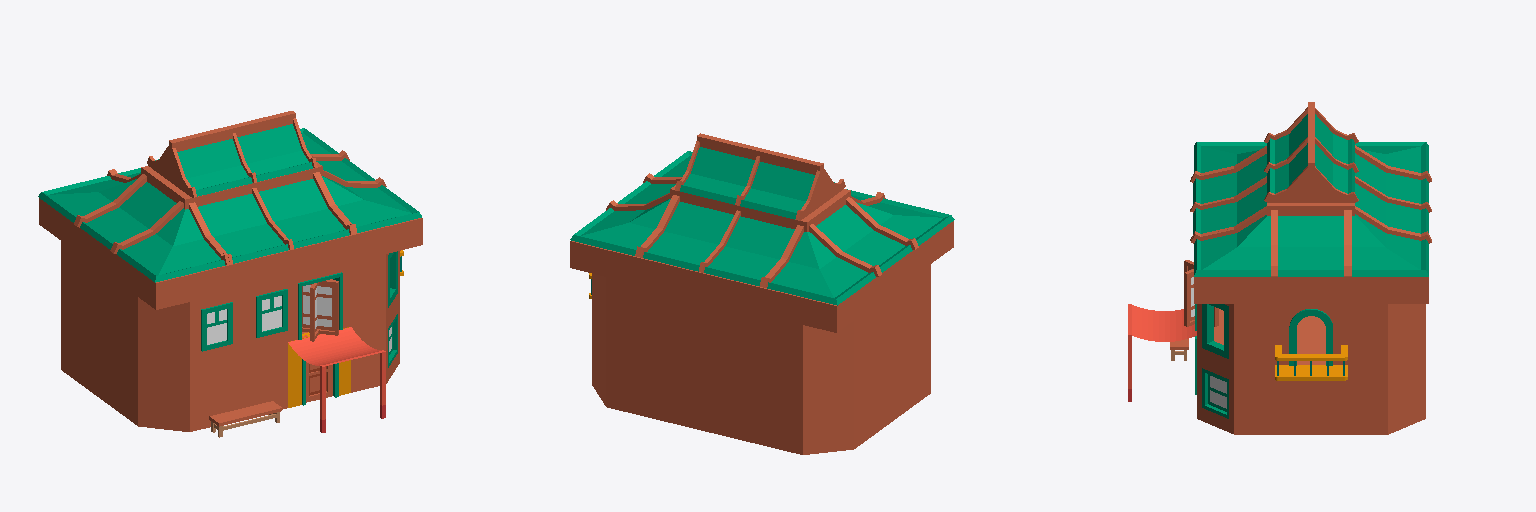
File: Buildng1.obj
3 views of the same model, side by side, from view 1: azimuth 30°, elevation 25°; view 2: azimuth 150°, elevation 25°; view 3: azimuth 270°, elevation 25° (orthographic).
Parts seen in each view (by area): view 1: wall, wall_cornerEdge, roof_eastAsianSide, roof_eastAsianSideCorner, roof_eastAsian, doorway_revolving, wall_cornerEdgeWindowLarge, window_detail_double, wall_cornerEdgeWindow, doorway_doorSolid, cloth_hanging, furniture_bench (+1 smaller); view 2: wall, wall_cornerEdge, roof_eastAsianSide, roof_eastAsianSideCorner, roof_eastAsian; view 3: roof_eastAsianSide, roof_eastAsianSideCorner, wall, wall_cornerEdge, roof_eastAsian, wall_cornerEdgeWindow, wall_cornerEdgeWindowLarge, doorway_round, cloth_hanging, balcony_basic, porch_floorCenter, doorway_revolving.
Boxes of the visible parts, x1=… form: wall: x1=39, y1=198, x2=422, y2=411; wall_cornerEdge: x1=61, y1=241, x2=224, y2=431; roof_eastAsianSide: x1=75, y1=152, x2=380, y2=264; roof_eastAsianSideCorner: x1=38, y1=128, x2=421, y2=282; roof_eastAsian: x1=147, y1=111, x2=317, y2=197; doorway_revolving: x1=288, y1=263, x2=350, y2=341; wall_cornerEdgeWindowLarge: x1=351, y1=251, x2=399, y2=325; window_detail_double: x1=201, y1=289, x2=287, y2=351; wall_cornerEdgeWindow: x1=351, y1=297, x2=399, y2=392; doorway_doorSolid: x1=288, y1=327, x2=350, y2=407; cloth_hanging: x1=288, y1=327, x2=385, y2=366; furniture_bench: x1=209, y1=401, x2=281, y2=437; wall: x1=570, y1=221, x2=953, y2=446; wall_cornerEdge: x1=592, y1=264, x2=930, y2=454; roof_eastAsianSide: x1=612, y1=175, x2=916, y2=286; roof_eastAsianSideCorner: x1=570, y1=151, x2=954, y2=305; roof_eastAsian: x1=675, y1=133, x2=845, y2=220; roof_eastAsianSide: x1=1190, y1=147, x2=1431, y2=276; roof_eastAsianSideCorner: x1=1191, y1=142, x2=1431, y2=276; wall: x1=1194, y1=277, x2=1428, y2=434; wall_cornerEdge: x1=1348, y1=304, x2=1425, y2=434; roof_eastAsian: x1=1264, y1=102, x2=1358, y2=202; wall_cornerEdgeWindow: x1=1197, y1=353, x2=1274, y2=434; wall_cornerEdgeWindowLarge: x1=1197, y1=304, x2=1274, y2=367; doorway_round: x1=1275, y1=304, x2=1347, y2=365; cloth_hanging: x1=1128, y1=304, x2=1196, y2=341; balcony_basic: x1=1275, y1=345, x2=1347, y2=380; porch_floorCenter: x1=1214, y1=309, x2=1325, y2=363; doorway_revolving: x1=1184, y1=260, x2=1218, y2=330.
Bounding box in the file's own units: 4.62 × 3.6 × 4.14.